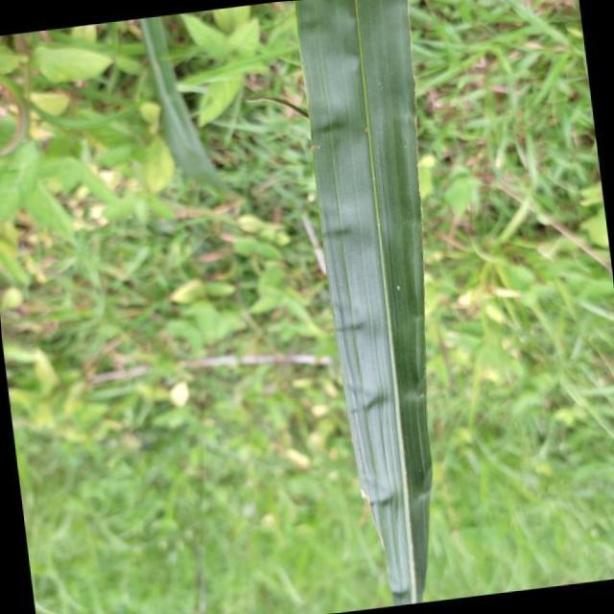Boron: (299, 0, 435, 614)
